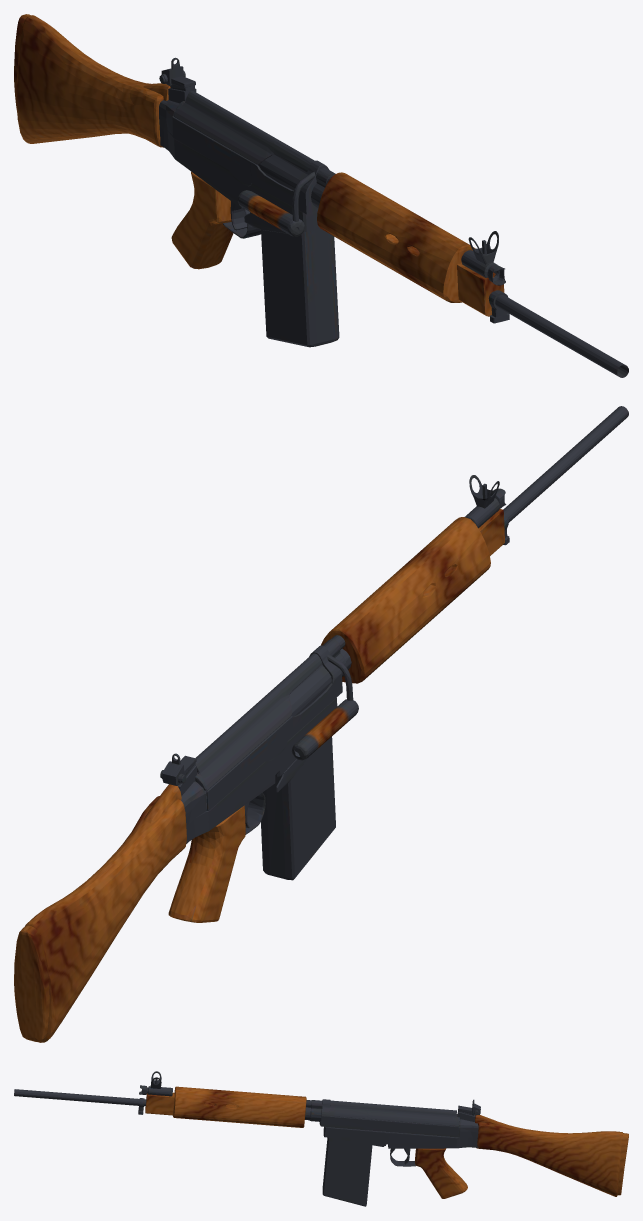
The model's file is sniper.glb.
3 views of the same model, one above another, from view 1: azimuth 30°, elevation 25°; view 2: azimuth 150°, elevation 25°; view 3: azimuth 270°, elevation 25° (orthographic). The views are drawn at different scales.
Visible parts, largest first — view 1: sniper; view 2: sniper; view 3: sniper.
Boxes of the visible parts, x1,y1,x2,y2 form: sniper: (14,14,628,377); sniper: (14,406,628,1042); sniper: (14,1071,628,1206).
Size of the model in its own units: 0.0589 by 0.2392 by 1.03.
1 material, 1 textured.
